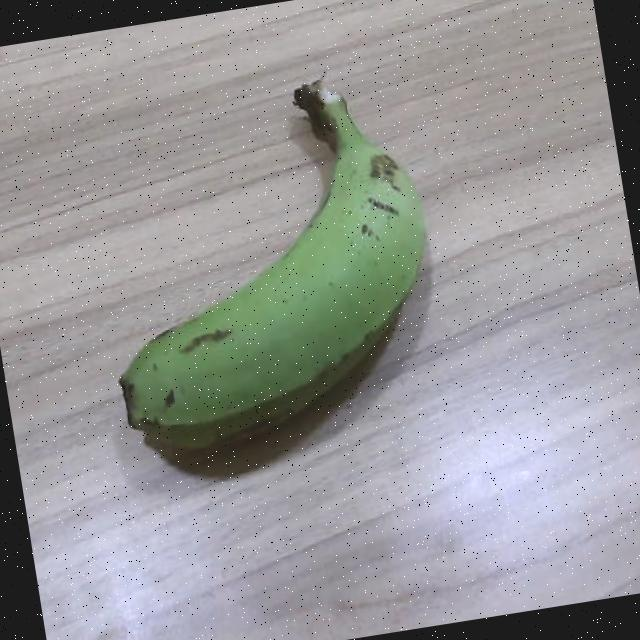Raw: (15, 38, 490, 519)
